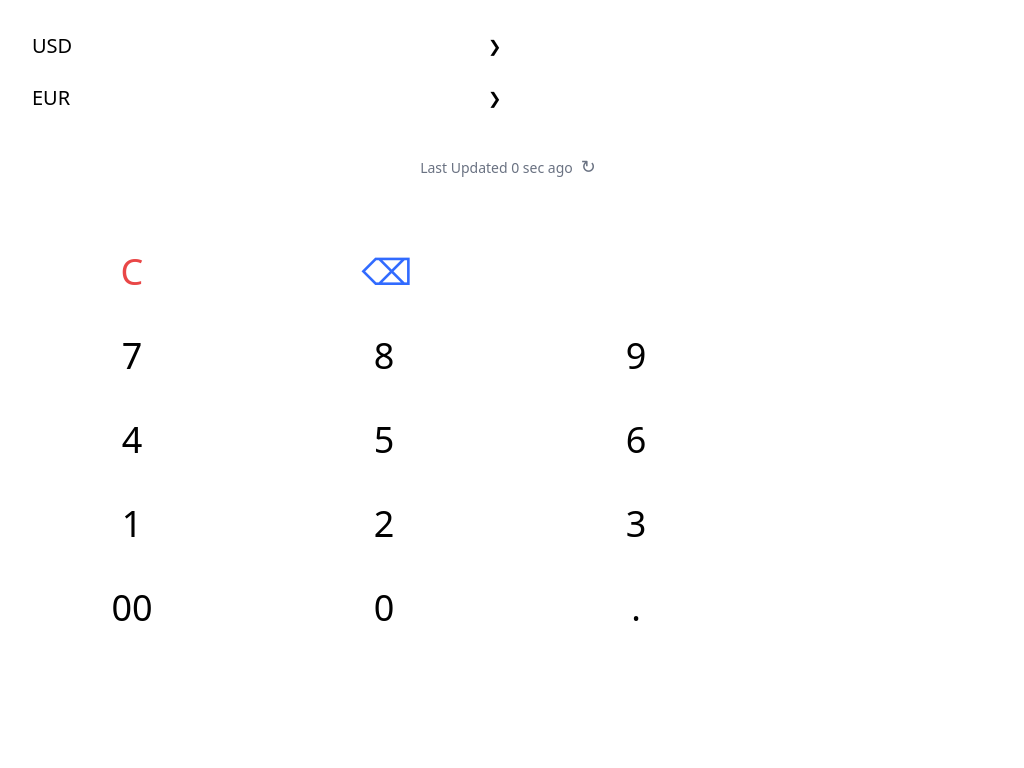
Scenario: CurrencyCalculator Component › converts correctly when currencies are the same
Select "EUR" in the dropdown with test id "source-currency" at [268, 46], box [24,24,512,68]
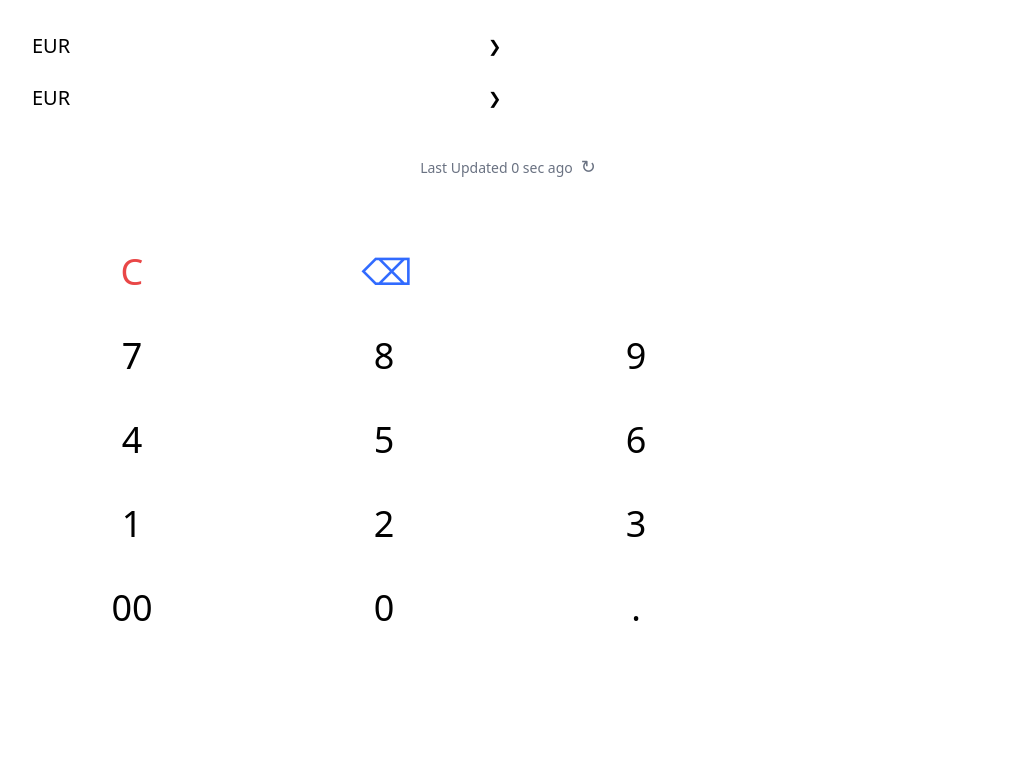
Click the button with test id "5" at [384, 440], box [264,404,504,476]
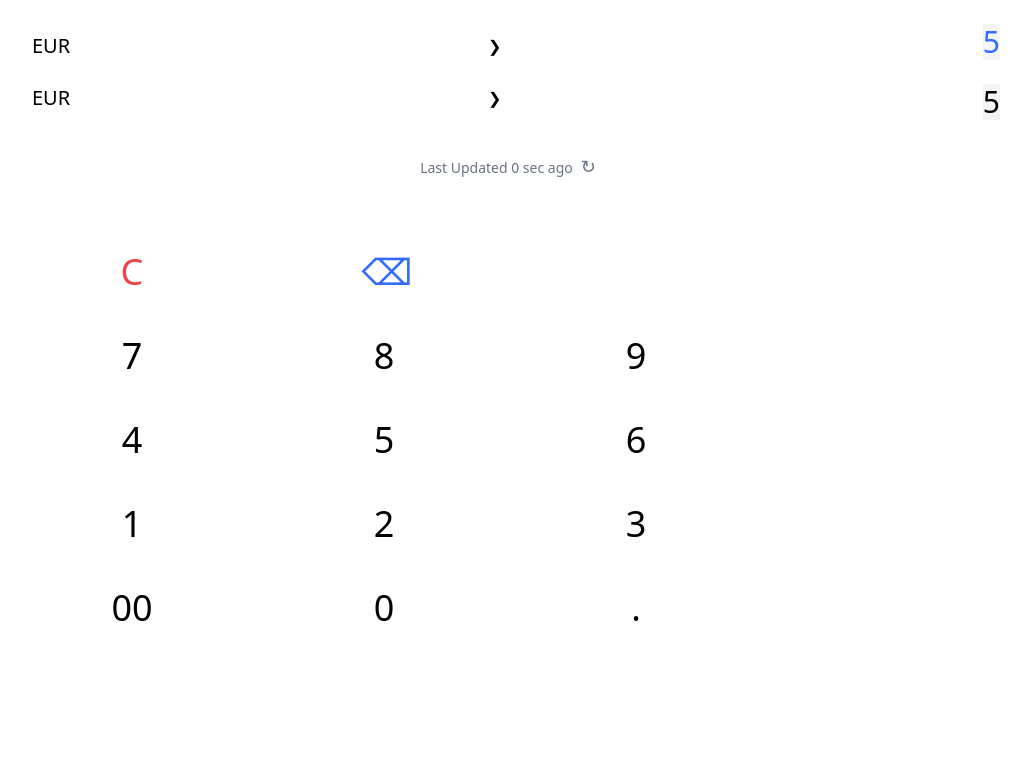
Result: the text with test id "amount" reads "5" at [983,21,1000,62]
Result: the text with test id "converted" reads "5" at [983,81,1000,122]
